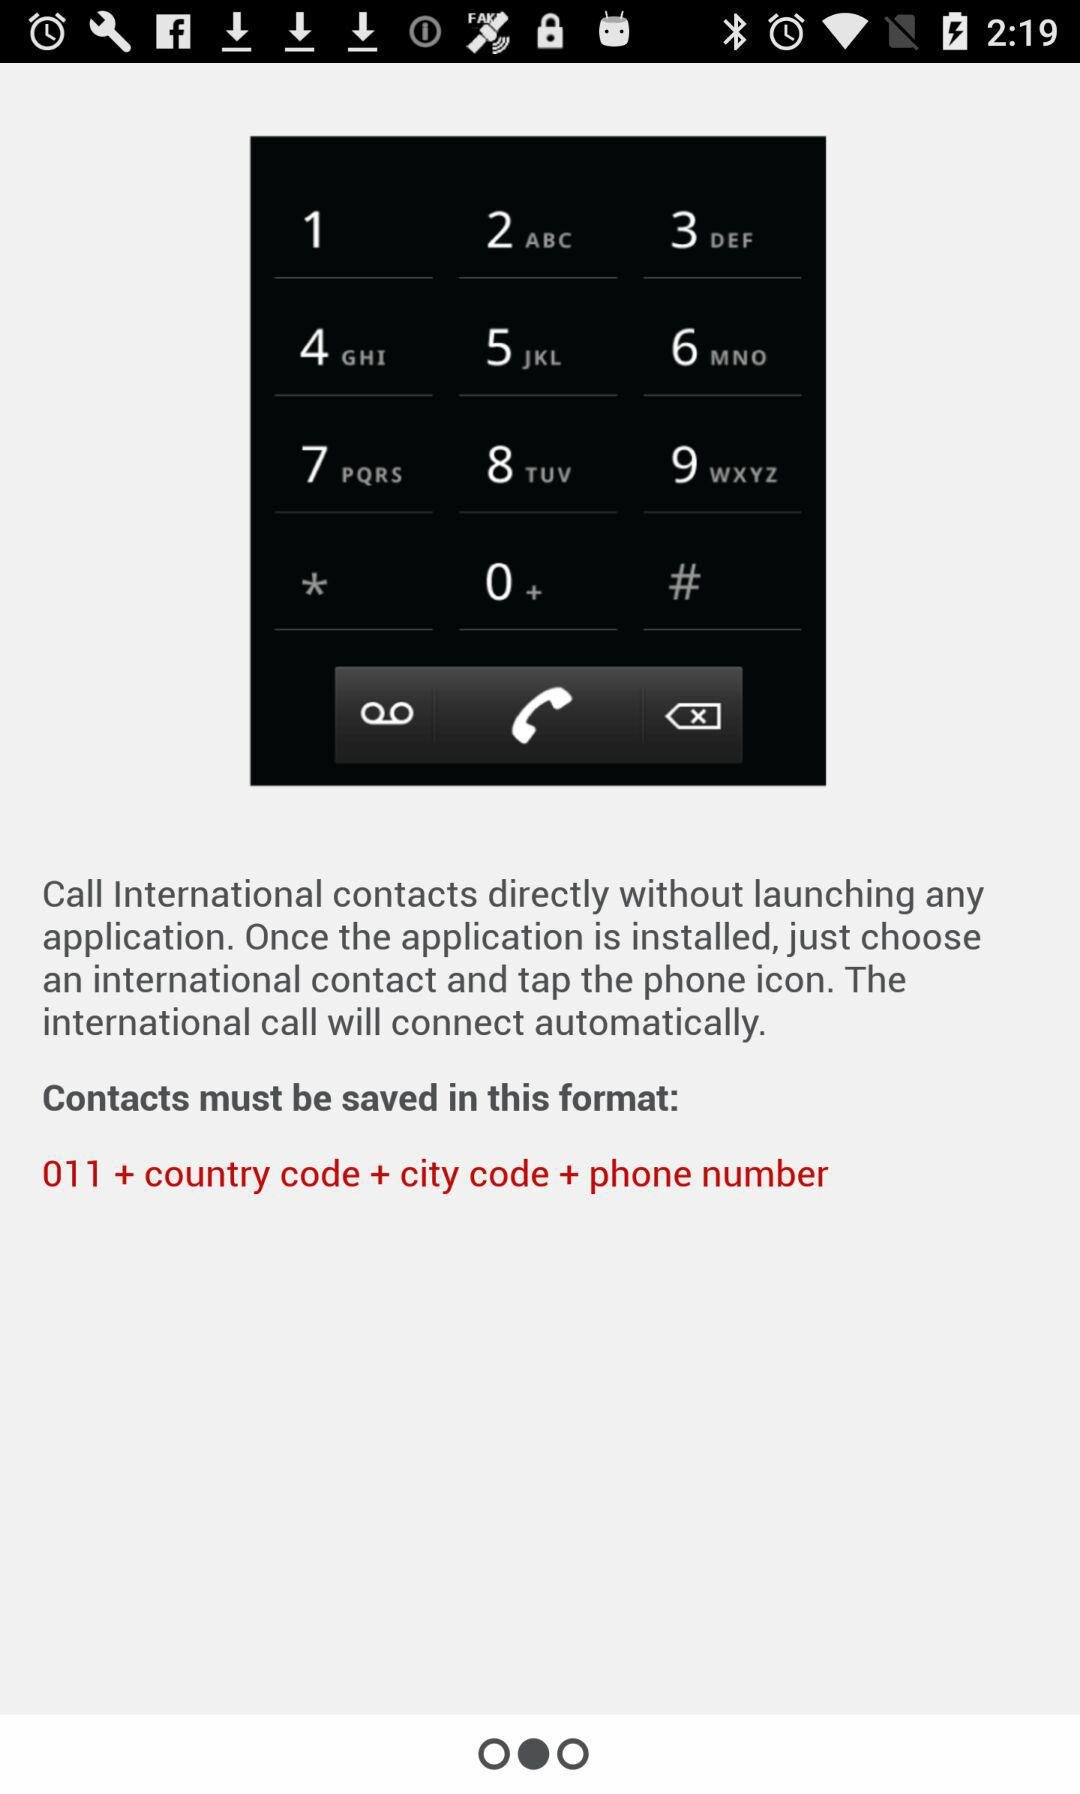Image: (250, 136, 828, 787)
PageIndicator: (478, 1738, 591, 1771)
Text: (44, 879, 985, 1044), (44, 1158, 829, 1196), (44, 1083, 679, 1112)
UpperTaskBar: (1, 1, 1080, 64)
